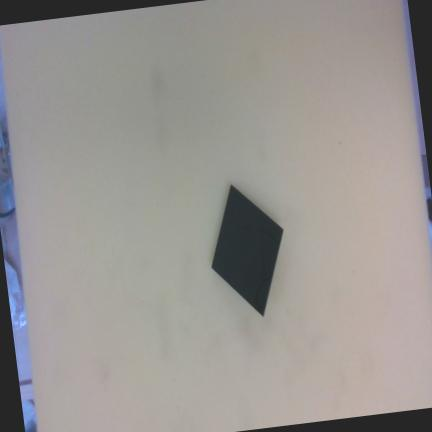tile: (202, 183, 291, 315)
